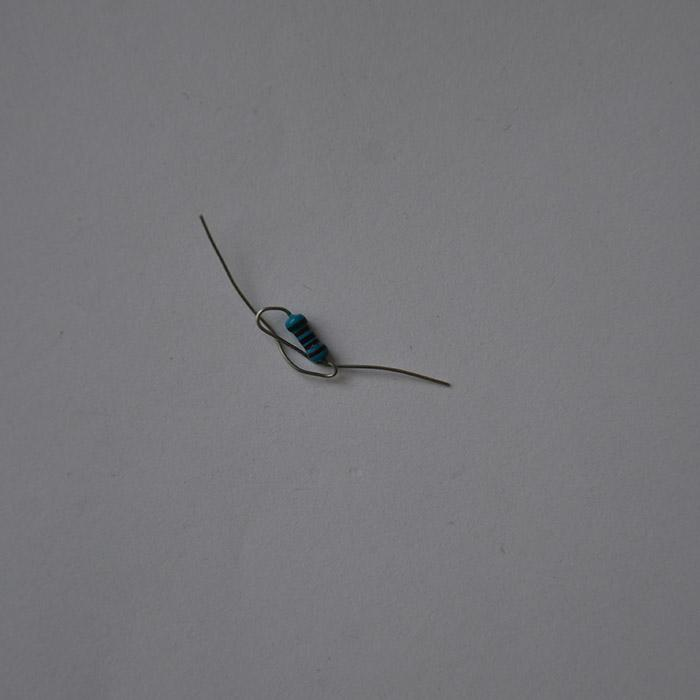resistor: (282, 311, 329, 365)
